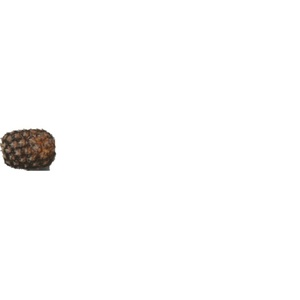abacaxi: (1, 119, 60, 175)
